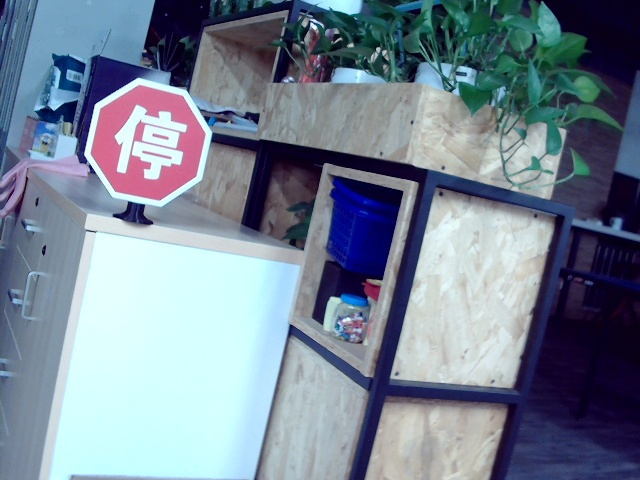stop: (109, 102, 189, 177)
